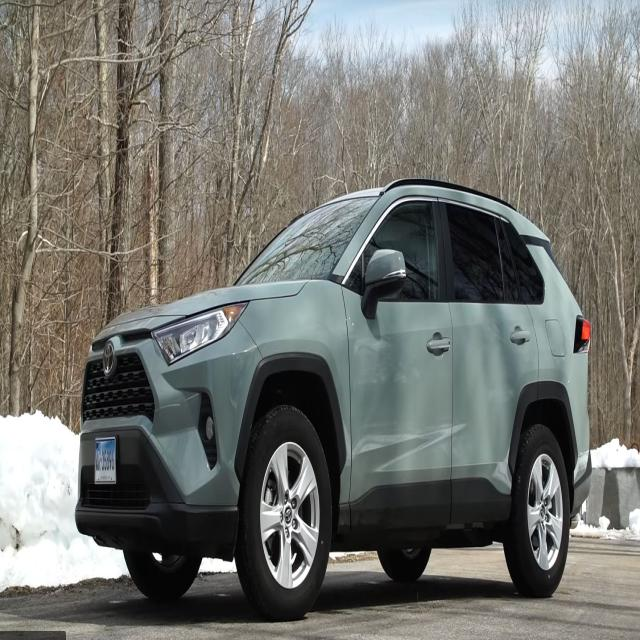light_vehicle: (74, 178, 593, 621)
